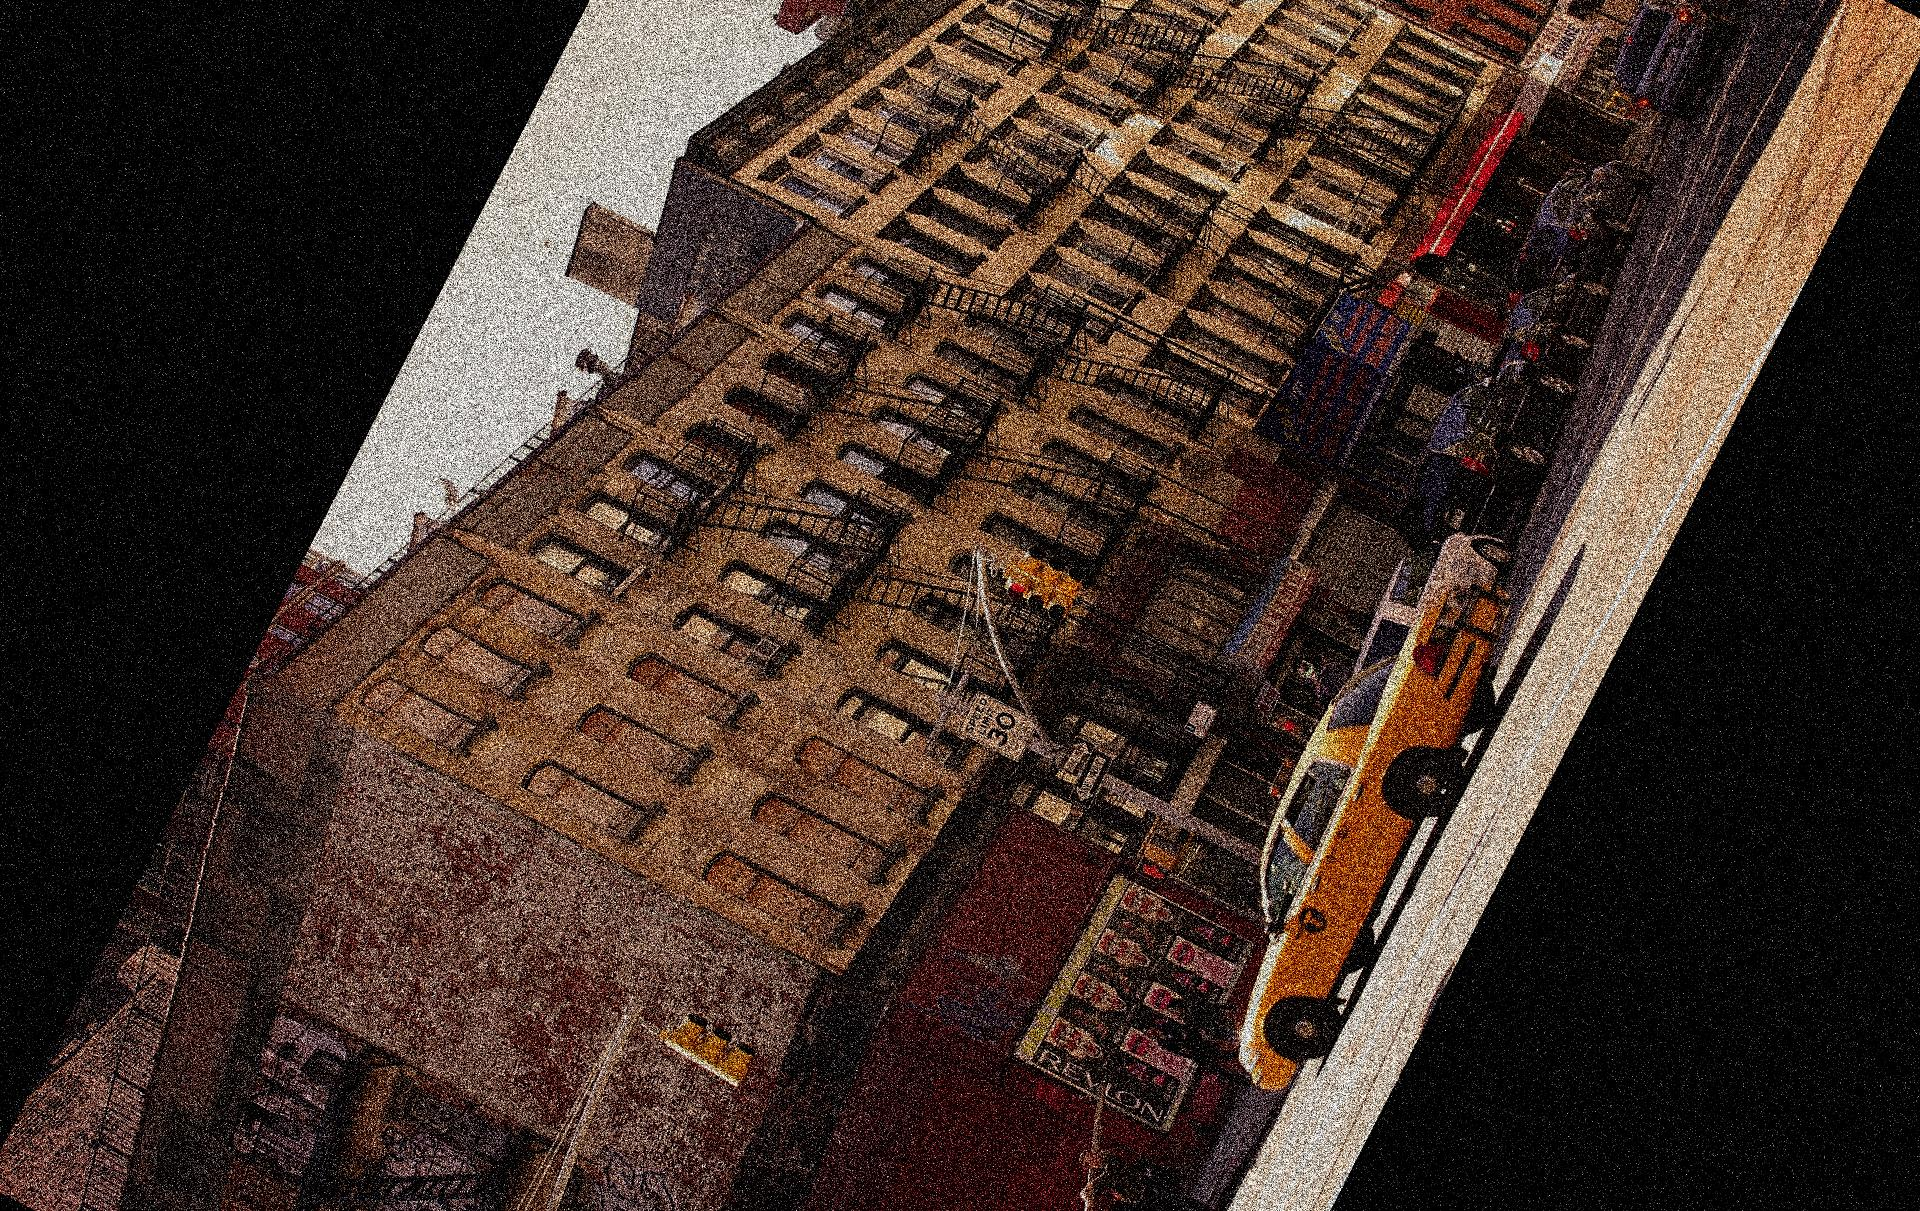taxi: (1227, 589, 1500, 1092)
